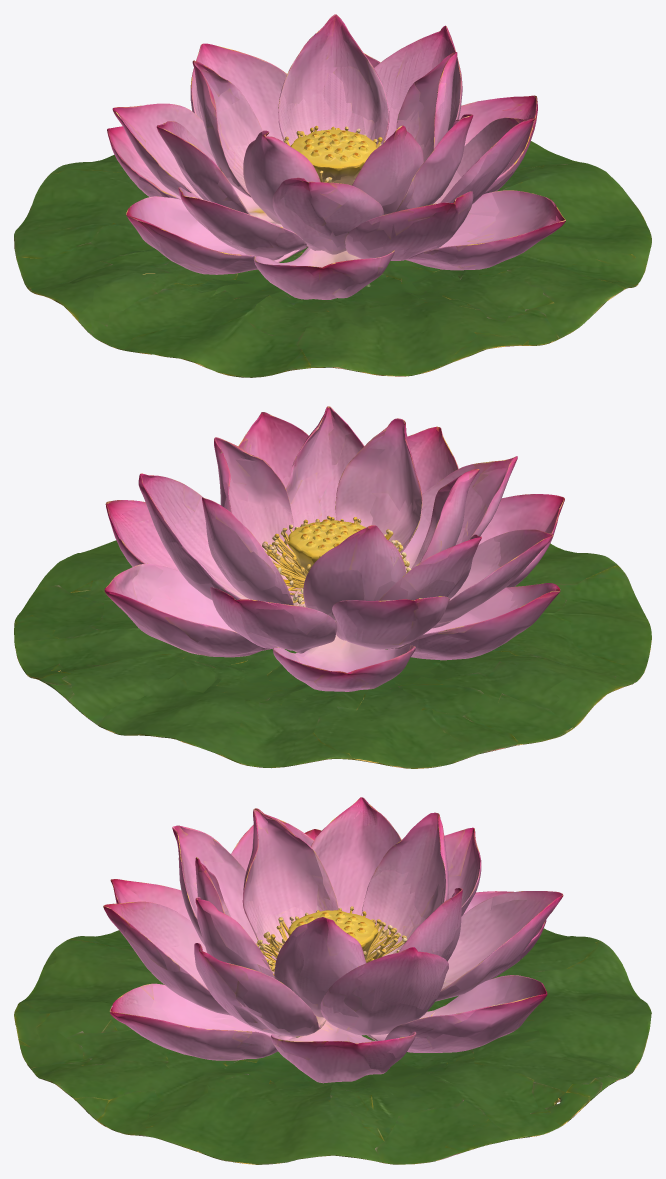
File: lotus.glb
3 renders of one model, top to bottom at view 1: azimuth 30°, elevation 25°; view 2: azimuth 150°, elevation 25°; view 3: azimuth 270°, elevation 25°, orthographic.
Visible parts, largest first — view 1: Mesh_0; view 2: Mesh_0; view 3: Mesh_0.
Part boxes in pixels (box(x1,y1,x2,y2)): Mesh_0: box(14, 14, 651, 377); Mesh_0: box(14, 406, 651, 768); Mesh_0: box(14, 797, 651, 1164).
Size of the model in its own units: 1.9 by 0.5995 by 1.9.
Materials: 1 (1 with a texture image).
